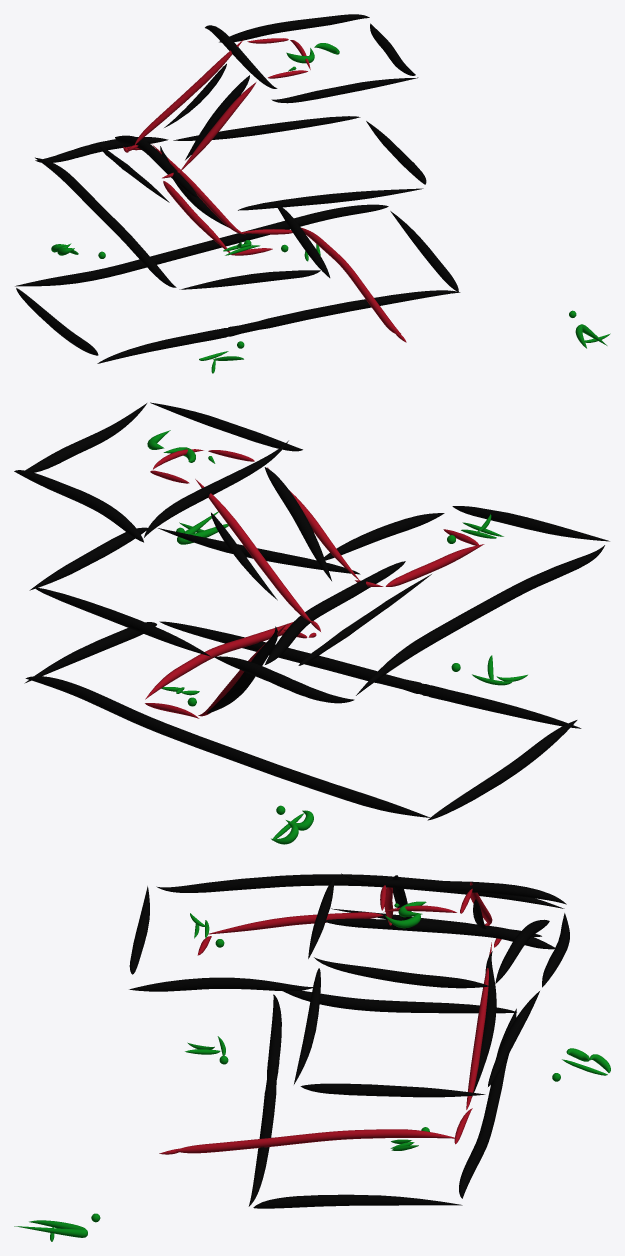
The picture shows the model from 3 angles, top to bottom: view 1: azimuth 30°, elevation 25°; view 2: azimuth 150°, elevation 25°; view 3: azimuth 270°, elevation 25°; orthographic projection. The views are drawn at different scales.
Visible parts, largest first — view 1: s.0020, s.0018, s.0027, s.0022, s.0024, s.0031, s.0062, s.0026, s.0029, s.0068, s.0034, s.0021 (+11 smaller); view 2: s.0020, s.0018, s.0027, s.0034, s.0021, s.0024, s.0031, s.0032, s.0028, s.0026, s.0022, s.0068 (+12 smaller); view 3: s.0027, s.0062, s.0021, s.0018, s.0034, s.0032, s.0019, s.0023, s.0025, s.0020, s.0030, s.0076 (+9 smaller).
Boxes of the visible parts, x1,y1,x2,y2 form: s.0020: [15, 204, 388, 286]; s.0018: [97, 290, 460, 363]; s.0027: [35, 157, 176, 287]; s.0022: [238, 188, 423, 210]; s.0024: [173, 116, 360, 140]; s.0031: [219, 14, 369, 42]; s.0062: [301, 227, 400, 333]; s.0026: [179, 270, 320, 289]; s.0029: [271, 77, 418, 103]; s.0068: [134, 39, 243, 144]; s.0034: [115, 135, 197, 197]; s.0021: [16, 288, 98, 355]; s.0020: [25, 676, 430, 817]; s.0018: [159, 621, 581, 728]; s.0027: [356, 545, 604, 695]; s.0034: [265, 561, 405, 664]; s.0021: [427, 720, 577, 820]; s.0024: [34, 587, 210, 656]; s.0031: [14, 470, 143, 542]; s.0032: [144, 440, 288, 537]; s.0028: [214, 656, 354, 703]; s.0026: [452, 506, 609, 541]; s.0022: [158, 528, 360, 574]; s.0068: [195, 479, 311, 622]; s.0027: [156, 874, 564, 908]; s.0062: [175, 1129, 457, 1153]; s.0021: [283, 990, 514, 1013]; s.0018: [248, 994, 281, 1206]; s.0034: [325, 918, 556, 949]; s.0032: [341, 873, 566, 904]; s.0019: [253, 1194, 462, 1208]; s.0023: [300, 1083, 485, 1097]; s.0025: [129, 977, 314, 991]; s.0020: [459, 1008, 516, 1198]; s.0030: [314, 957, 489, 988]; s.0076: [208, 912, 383, 934].
Bounding box in the file's own units: 107 × 111 × 53.96.
